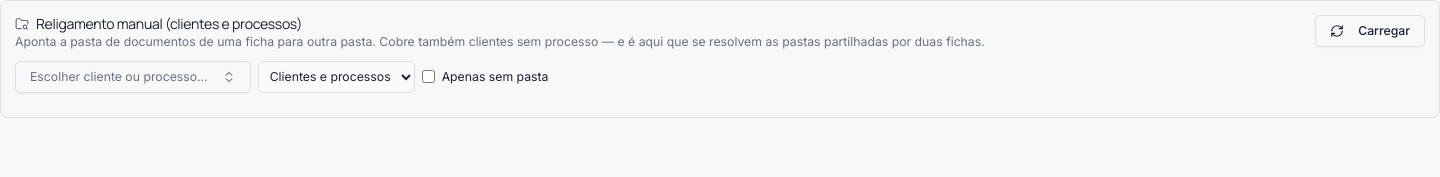
Test case: S3RelinkPanel › lista vazia explica-se em vez de ficar em branco
The width and height of the screenshot is (1440, 177).
Click the button "Carregar".
click(1370, 31)  # box [1315,15,1425,46]
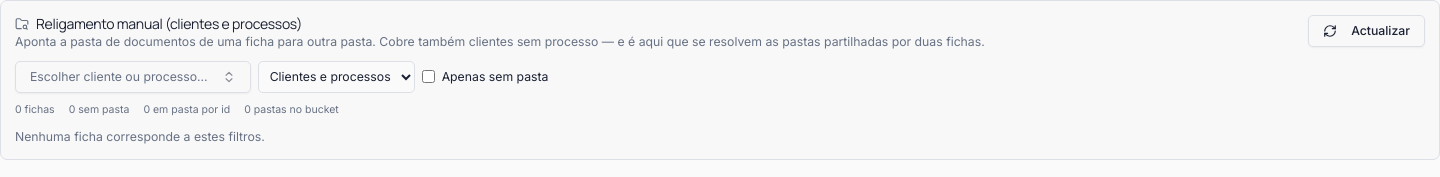
expect the text "Nenhuma ficha corresponde a estes filtros." is shown: met, box [15,129,265,144]
